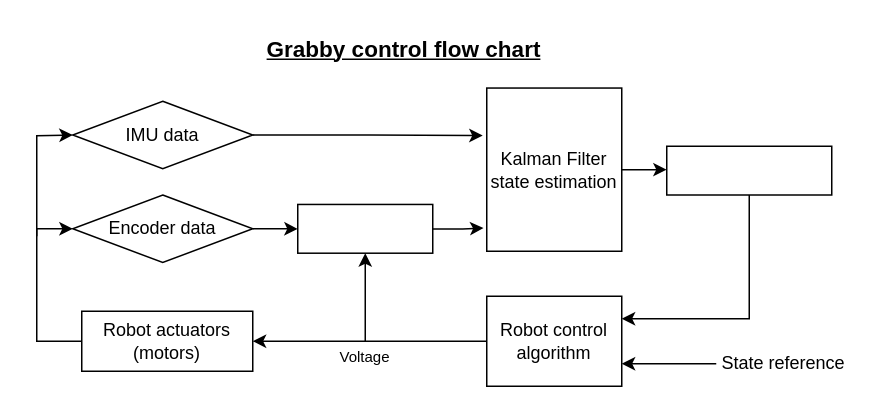
The diagram is 878 pixels wide and 413 high, and some of its shapes have lost their labels. The shapes that lost their labels are listed below. From the top down, each one's centre as x and y in pixels, then its label:
At (748,170): "State projection to navigation frame".
At (364,228): "Motor torque computation".
